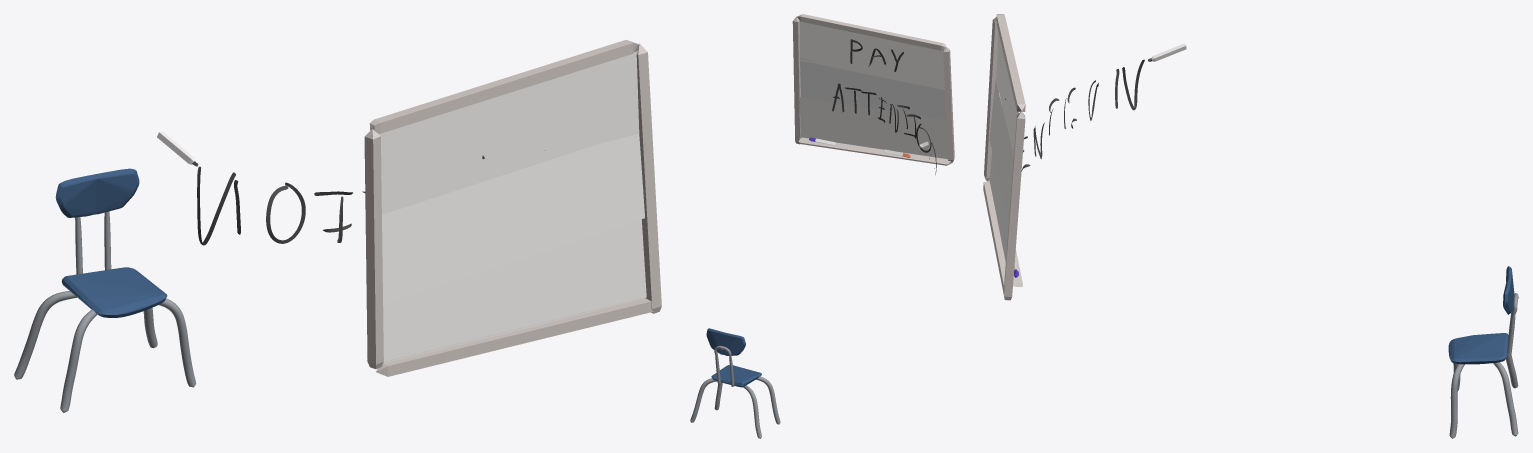
The picture shows the model from 3 angles, left to right: view 1: azimuth 30°, elevation 25°; view 2: azimuth 150°, elevation 25°; view 3: azimuth 270°, elevation 25°; orthographic projection. The views are drawn at different scales.
Visible parts, largest first — view 1: brush_Flat_g0_b0_0, brush_ShinyHull_g0_b0_3, brush_MatteHull_g0_b0_5, brush_Wire_g0_b0_6, brush_Marker_g0_b0_4; view 2: brush_Flat_g0_b0_0, brush_ShinyHull_g0_b0_3, brush_Marker_g0_b0_4, brush_MatteHull_g0_b0_5, brush_Wire_g0_b0_6; view 3: brush_ShinyHull_g0_b0_3, brush_Flat_g0_b0_0, brush_MatteHull_g0_b0_5, brush_Wire_g0_b0_6, brush_Marker_g0_b0_4.
Part boxes in pixels (x1,y1,x2,y2): brush_Flat_g0_b0_0: (378, 51, 646, 363); brush_ShinyHull_g0_b0_3: (364, 40, 661, 376); brush_MatteHull_g0_b0_5: (55, 131, 198, 317); brush_Wire_g0_b0_6: (14, 211, 196, 412); brush_Marker_g0_b0_4: (197, 150, 639, 362); brush_Flat_g0_b0_0: (799, 21, 947, 159); brush_ShinyHull_g0_b0_3: (792, 14, 954, 165); brush_Marker_g0_b0_4: (798, 39, 950, 174); brush_MatteHull_g0_b0_5: (706, 137, 928, 387); brush_Wire_g0_b0_6: (690, 345, 780, 438); brush_ShinyHull_g0_b0_3: (983, 14, 1025, 300); brush_Flat_g0_b0_0: (989, 32, 1018, 262); brush_MatteHull_g0_b0_5: (1014, 43, 1514, 364); brush_Wire_g0_b0_6: (1449, 293, 1518, 438); brush_Marker_g0_b0_4: (988, 59, 1144, 287).
Size of the model in its own units: 1.39 by 1.89 by 2.41.
Materials: 5 (1 with a texture image).
